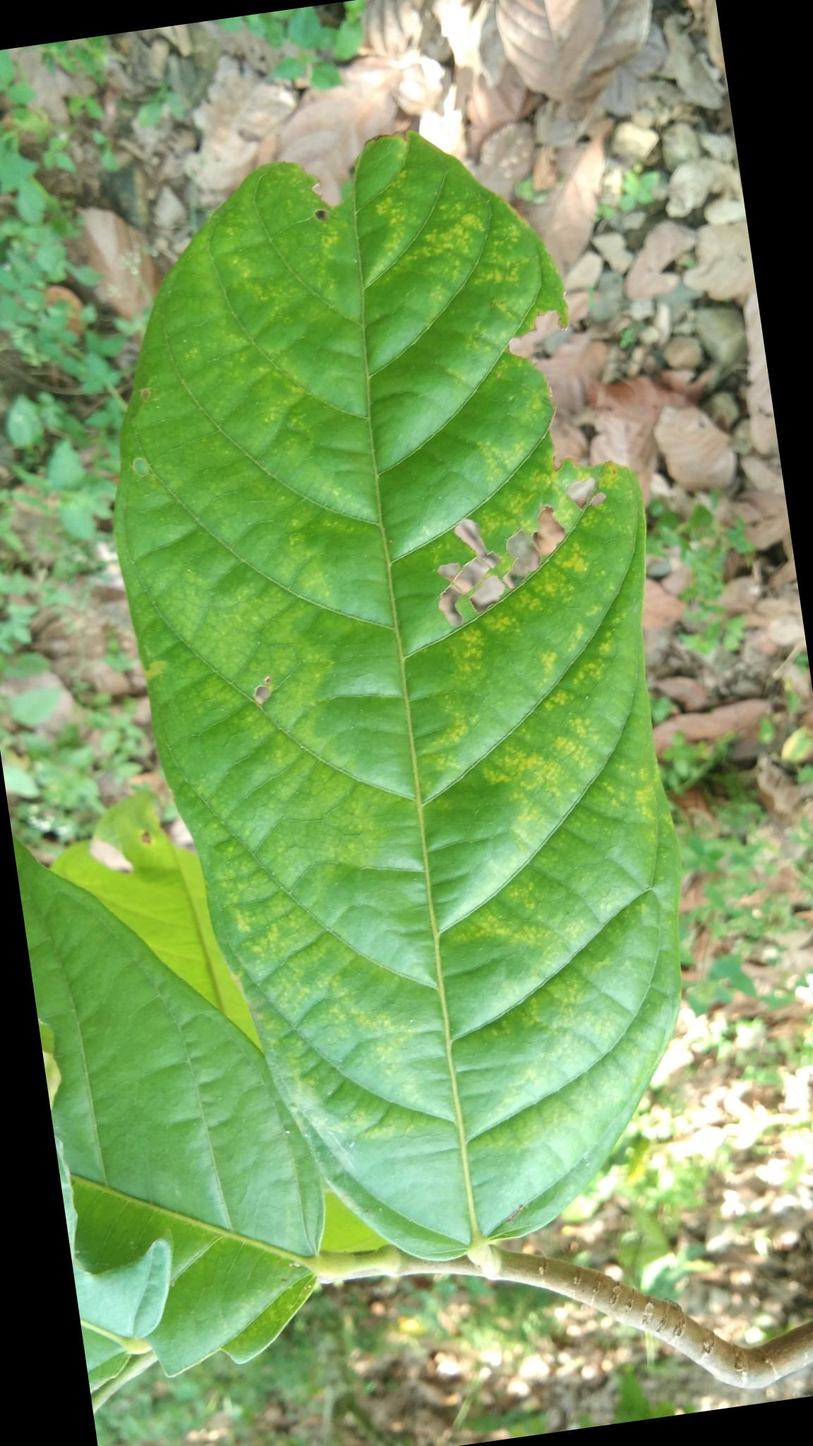Fosforo: (122, 124, 700, 1278)
